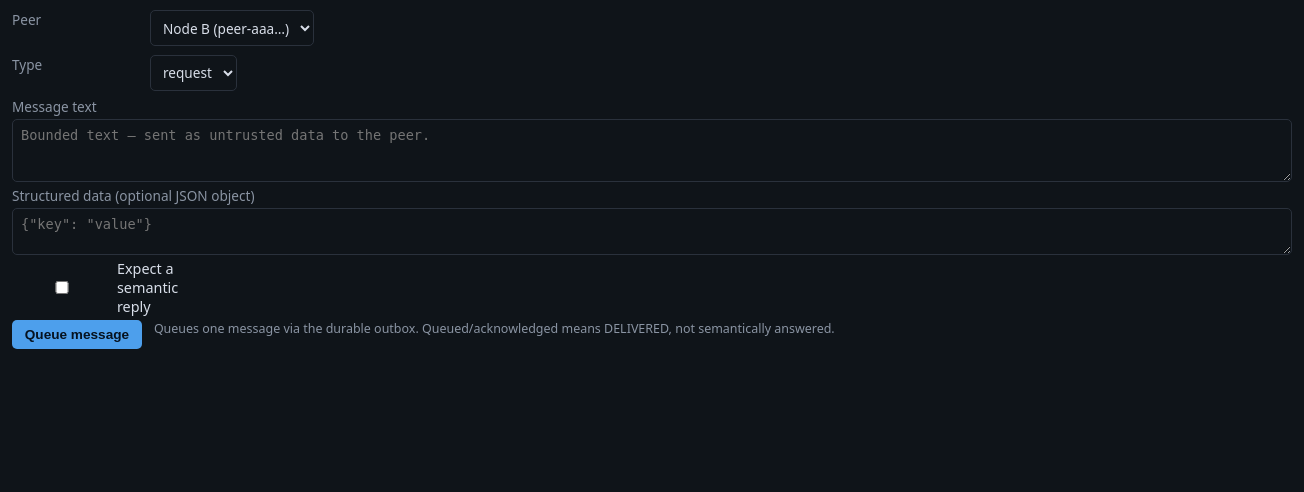
Scenario: OperatorComposer › queues exactly one message and shows queued (not answered) state
The width and height of the screenshot is (1304, 492).
Type "hello" into the text box labelled "Message text".
click(652, 151); type("hello")  # box x1=12 y1=119 x2=1292 y2=182
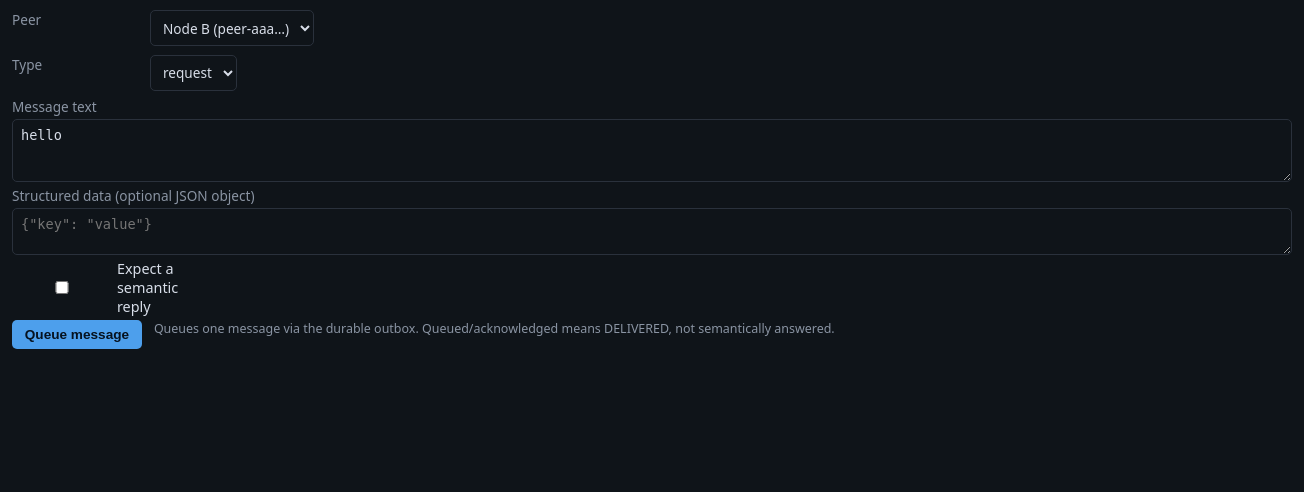
Click the button "Queue message".
click(77, 335)  # box x1=12 y1=320 x2=142 y2=350
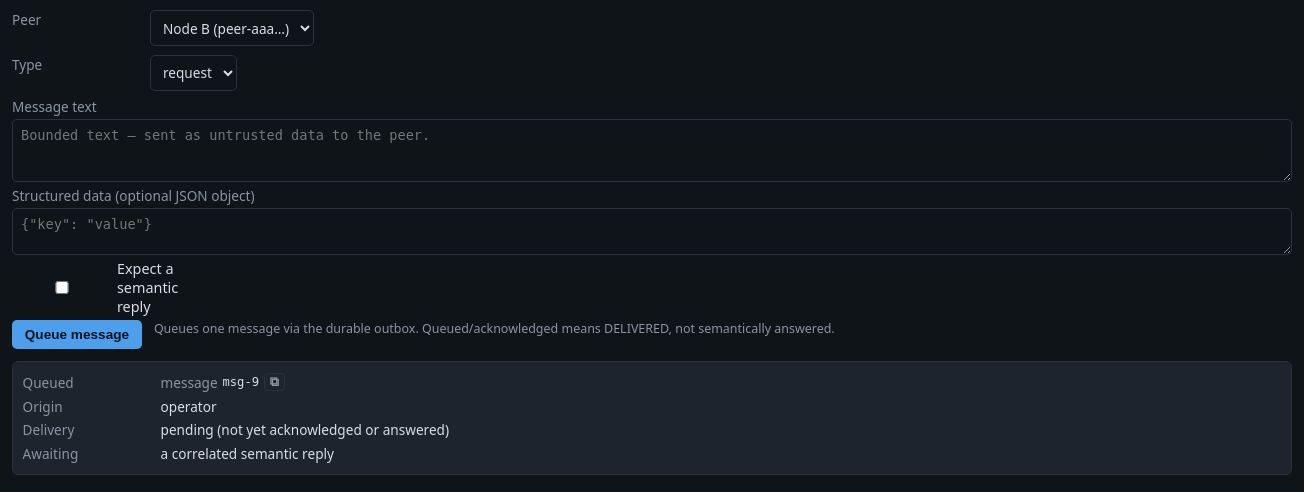
Result: the text "operator" is shown at x1=161 y1=397 x2=217 y2=416
Result: the text "pending (not yet acknowledged or answered)" is shown at x1=161 y1=420 x2=449 y2=439
